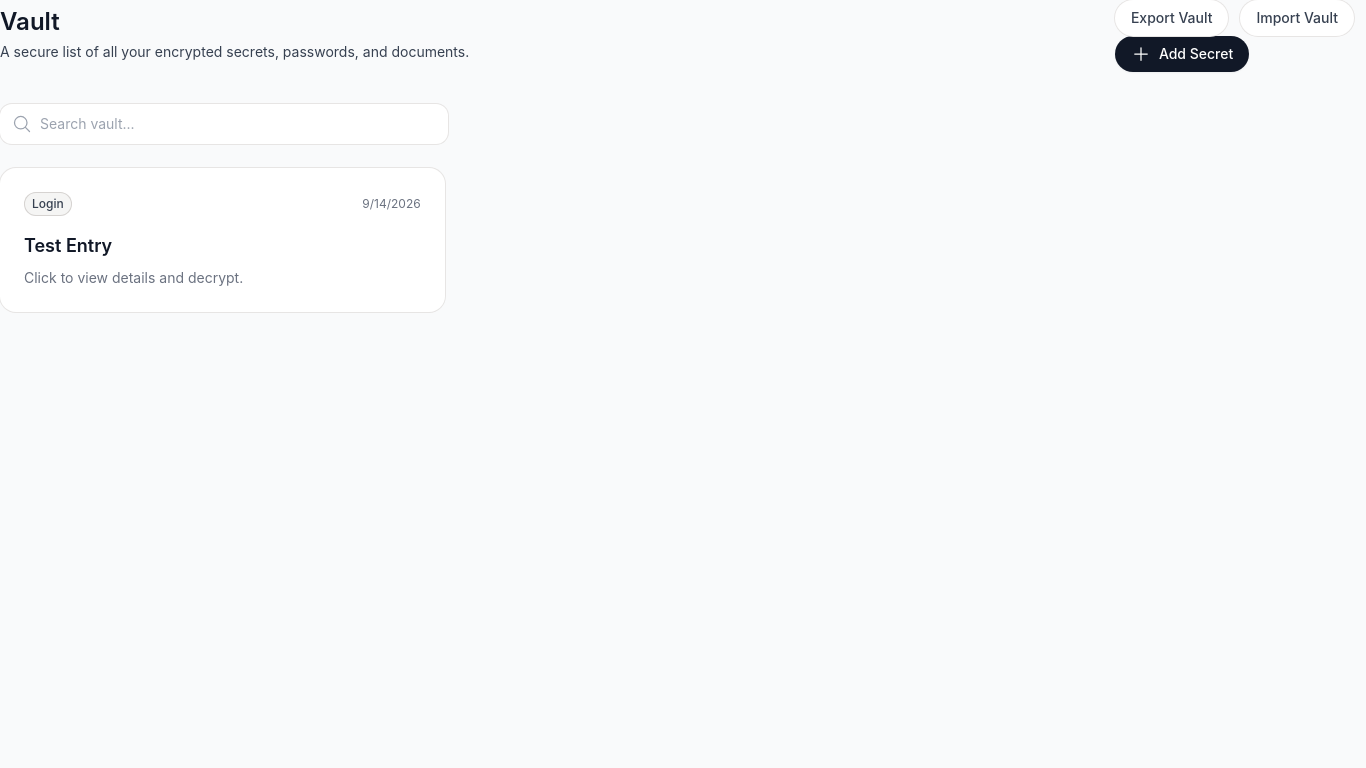
Test: Vault Integration › should open modal and add new entry
Expected: the heading "Test Entry" is shown, [24, 235, 112, 256]
Step 1. Click the button "Add Secret" → (1182, 54), box [1115, 36, 1249, 72]
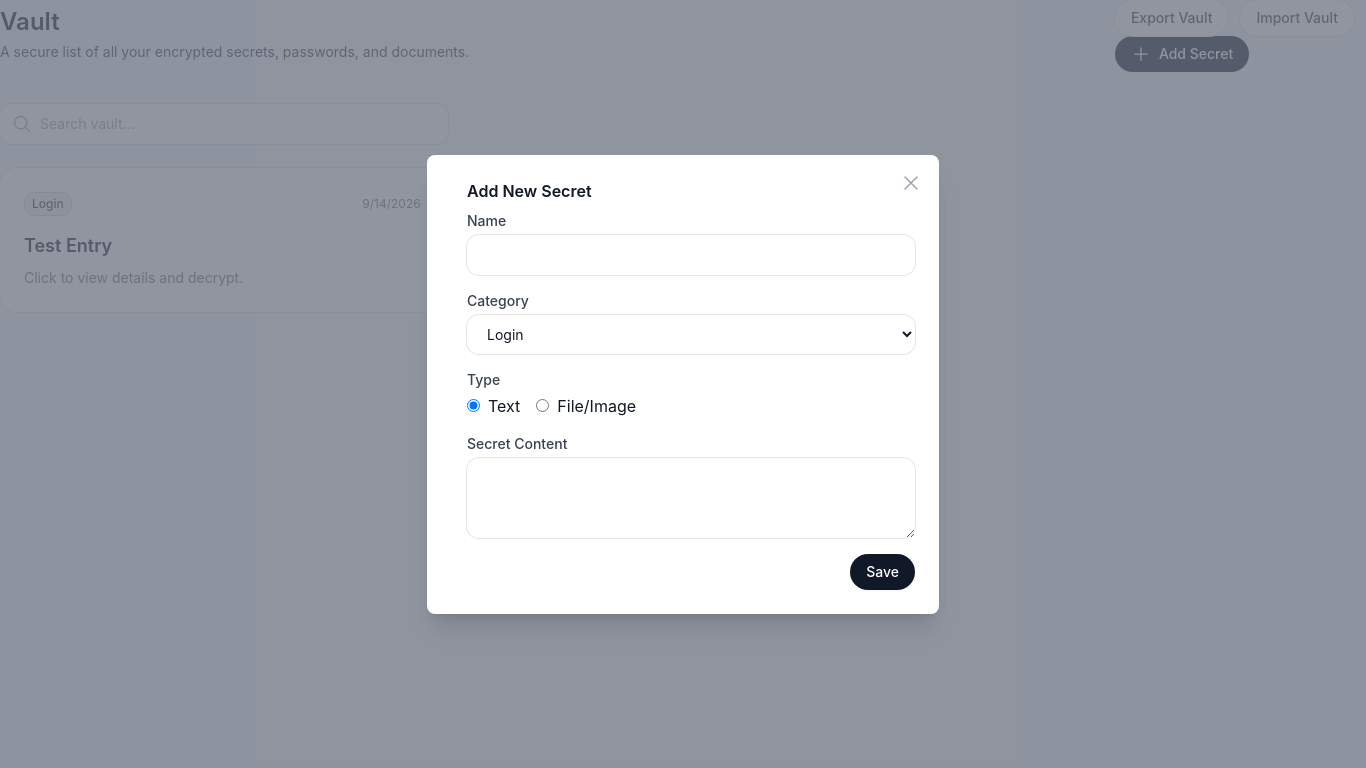
Step 2. Type "New Secret" into the field labelled "Name" → (691, 254), box [467, 234, 915, 274]
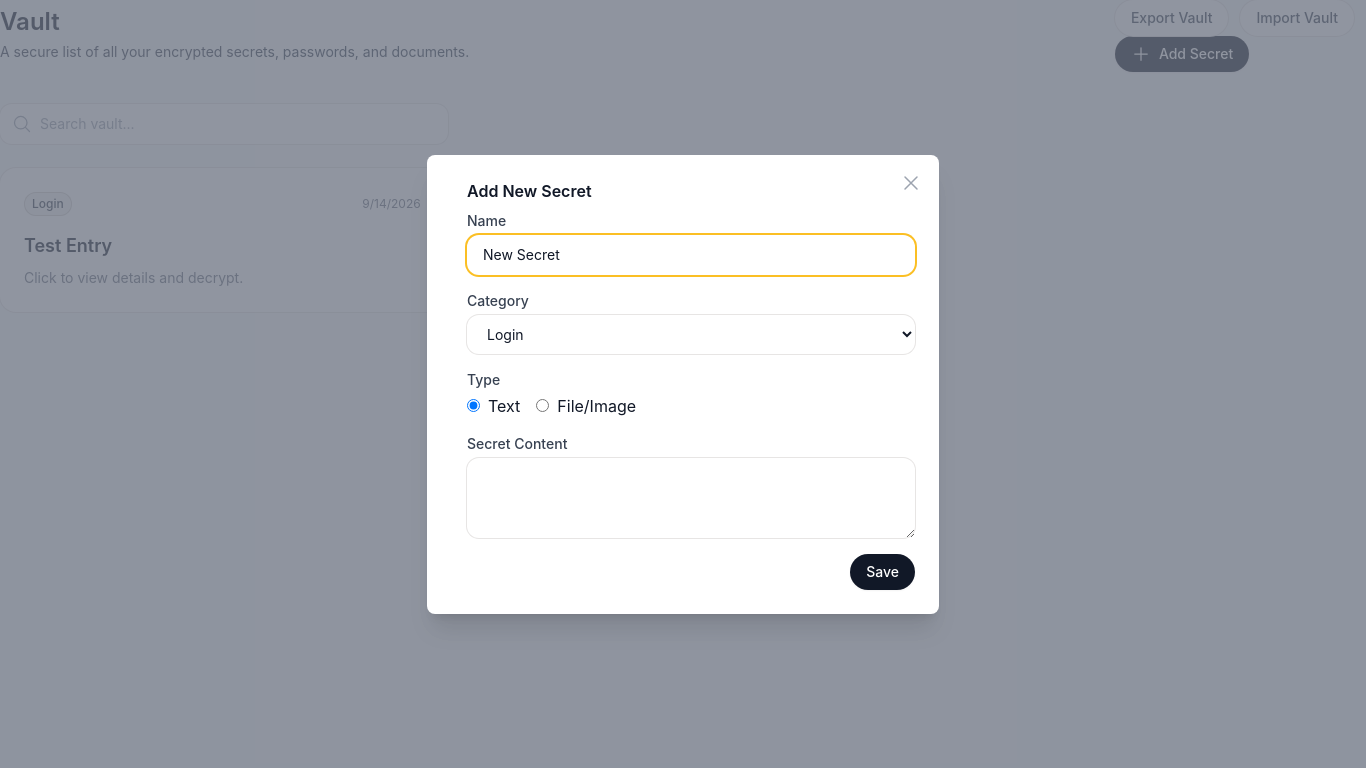
Step 3. Type "my-secret" into the text box labelled "Secret Content" → (691, 498), box [467, 458, 915, 538]
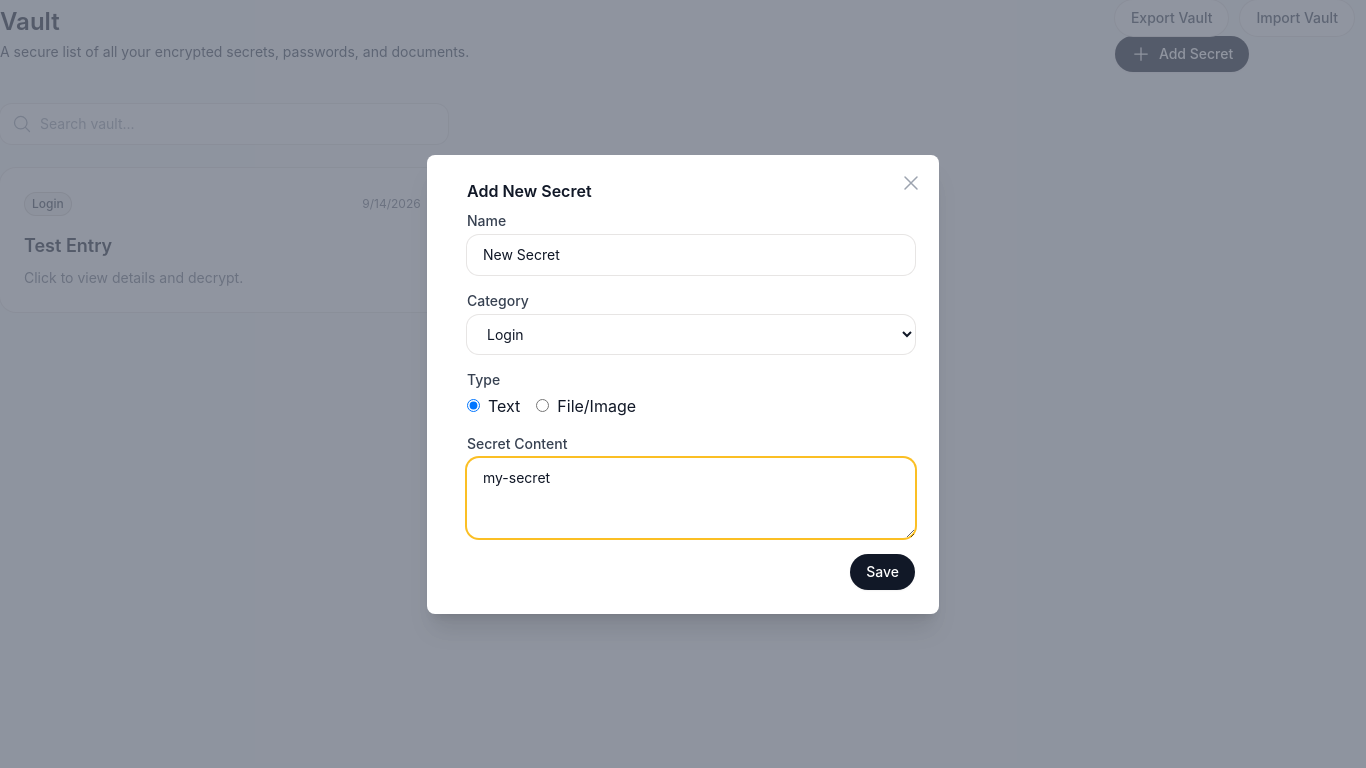
Step 4. Click the button "Save" → (883, 572), box [850, 554, 915, 590]
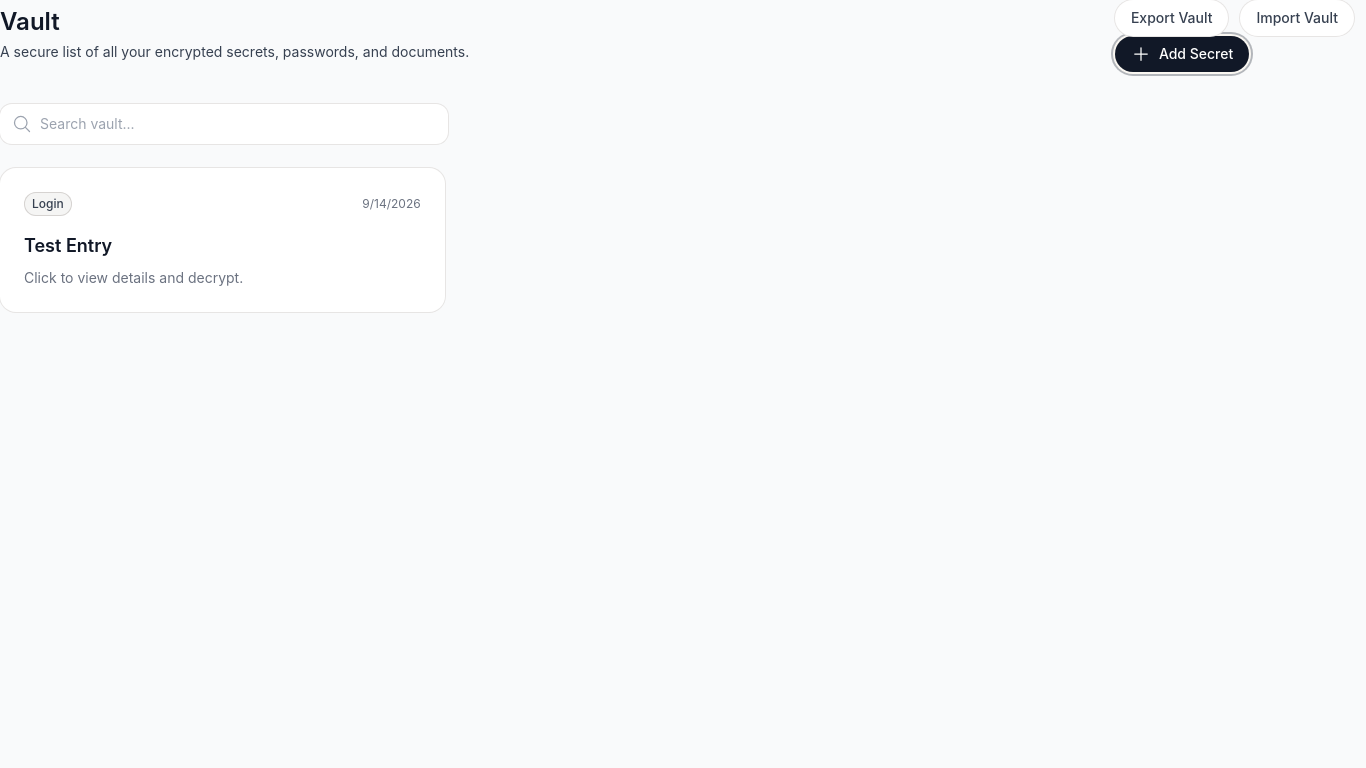
Expected: the field "Save Secret" is gone
